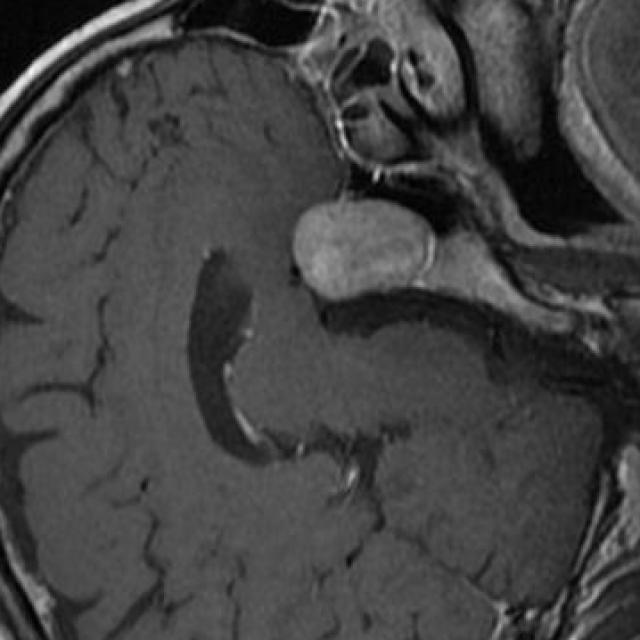pituitary: (292, 200, 435, 299)
